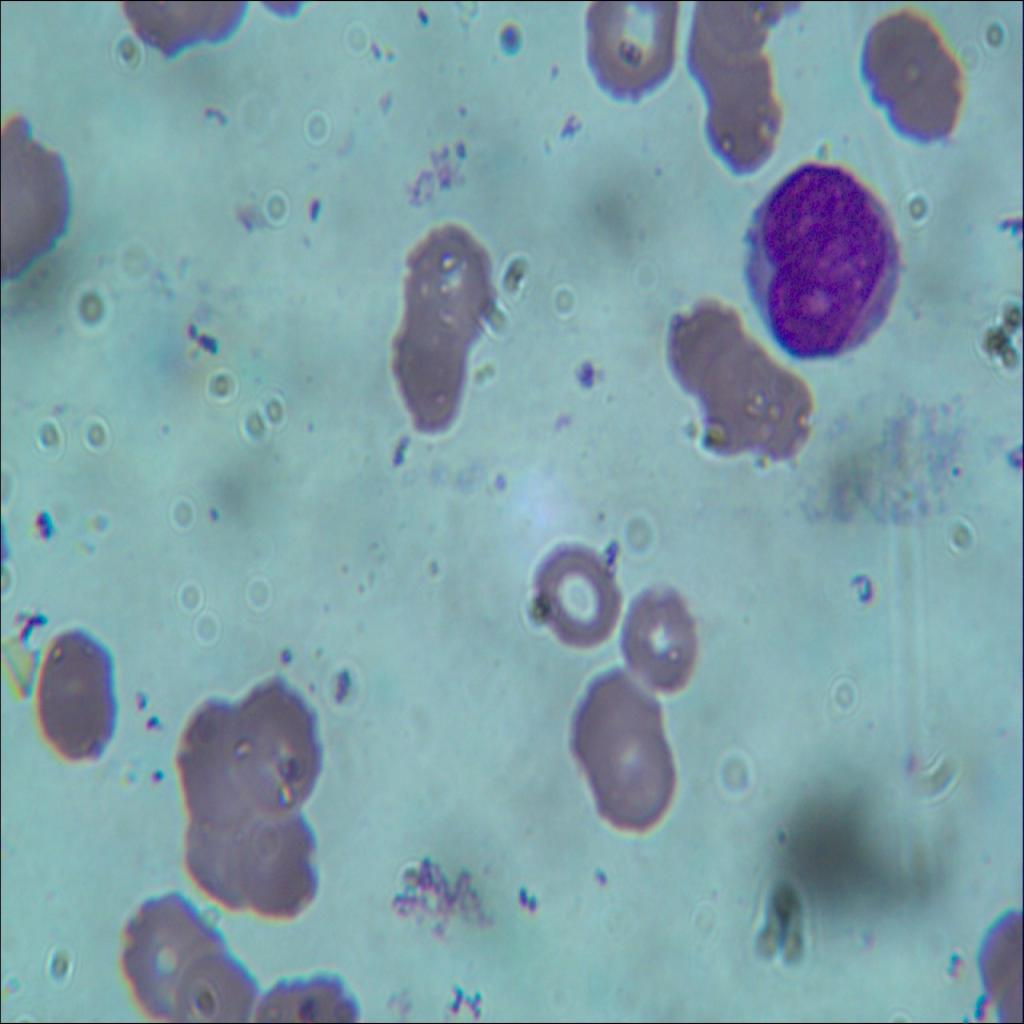Eritrosit: (114, 892, 224, 1018), (0, 118, 74, 294), (515, 532, 620, 652), (236, 674, 324, 815), (400, 216, 495, 344), (34, 627, 118, 768), (388, 305, 475, 441), (176, 699, 261, 832), (578, 0, 678, 106), (715, 361, 811, 467), (572, 666, 658, 778), (233, 814, 322, 920), (666, 295, 750, 402), (618, 579, 698, 689), (688, 0, 773, 99), (173, 812, 263, 904), (702, 72, 782, 175), (603, 735, 676, 832), (856, 12, 931, 101), (896, 58, 966, 152)
Limfoblast: (738, 159, 904, 360)
Platelet: (553, 111, 593, 162), (986, 204, 1024, 255), (488, 467, 529, 506), (846, 565, 876, 618), (490, 17, 524, 62), (942, 947, 973, 992), (328, 662, 354, 708), (384, 431, 409, 478), (506, 882, 536, 919), (410, 0, 438, 35), (568, 358, 598, 390), (596, 538, 626, 568), (943, 452, 966, 491), (896, 741, 920, 778), (589, 855, 609, 894), (448, 132, 474, 161), (298, 191, 322, 222), (274, 638, 295, 669), (451, 91, 476, 117), (362, 35, 386, 61), (144, 760, 163, 792), (294, 417, 318, 441), (28, 509, 51, 534), (769, 818, 784, 851), (126, 684, 146, 708), (540, 56, 566, 74), (206, 492, 220, 524), (140, 710, 158, 734)
